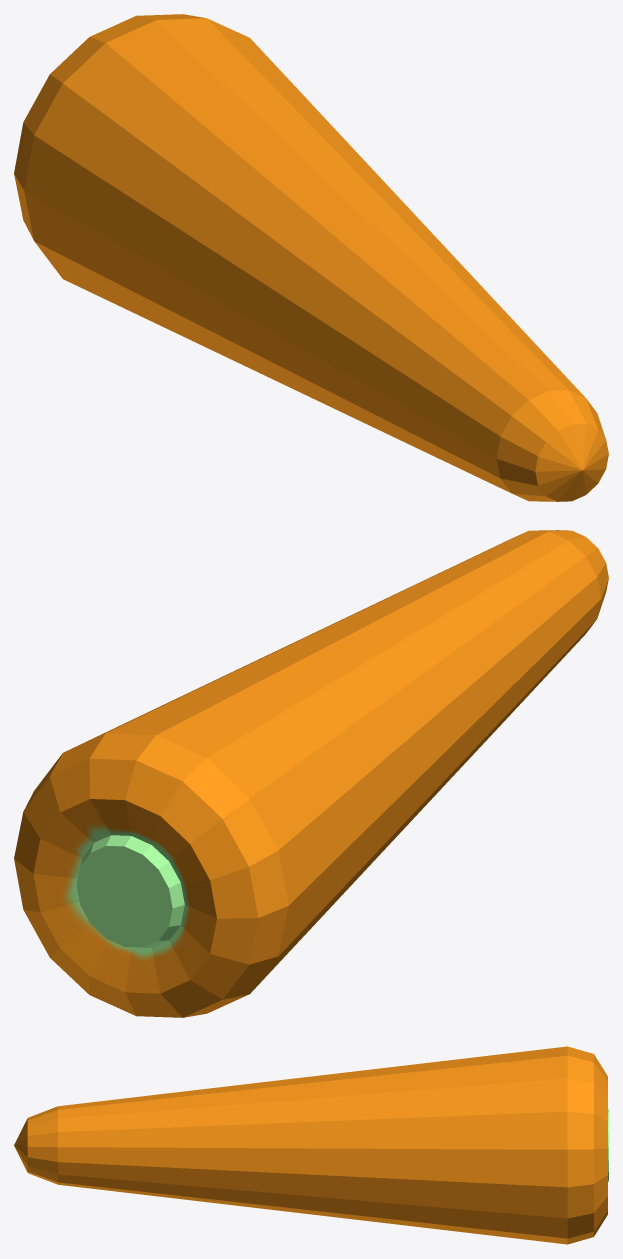
Rendered from Carrot.obj.
The picture shows the model from 3 angles, top to bottom: view 1: azimuth 30°, elevation 25°; view 2: azimuth 150°, elevation 25°; view 3: azimuth 270°, elevation 25°; orthographic projection. The views are drawn at different scales.
Visible parts, largest first — view 1: Cone; view 2: Cone; view 3: Cone.
Boxes of the visible parts, bbox=[...] form: Cone: bbox=[14, 14, 608, 501]; Cone: bbox=[14, 530, 608, 1017]; Cone: bbox=[14, 1046, 608, 1244].
Size of the model in its own units: 2 by 2 by 6.
Materials: 1 (1 with a texture image).
